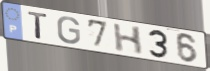3: (147, 29, 169, 59)
6: (176, 33, 200, 65)
7: (86, 18, 110, 51)
G: (56, 16, 82, 46)
H: (112, 23, 144, 56)
T: (27, 10, 50, 41)
